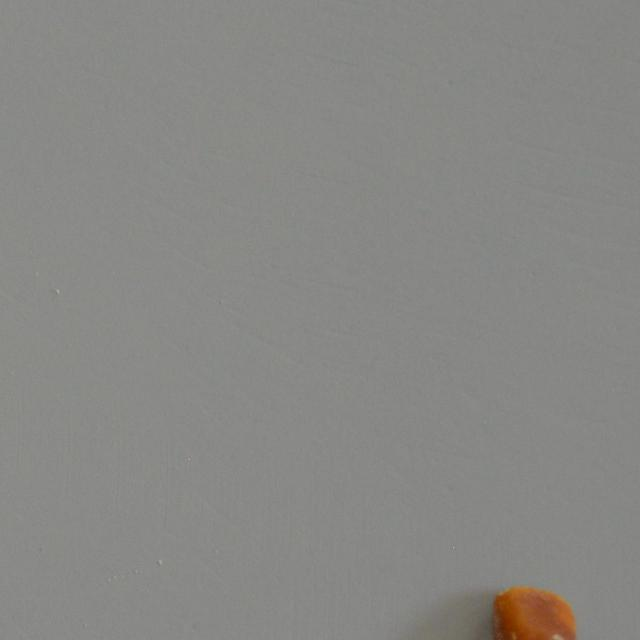dañado: (492, 586, 574, 640)
